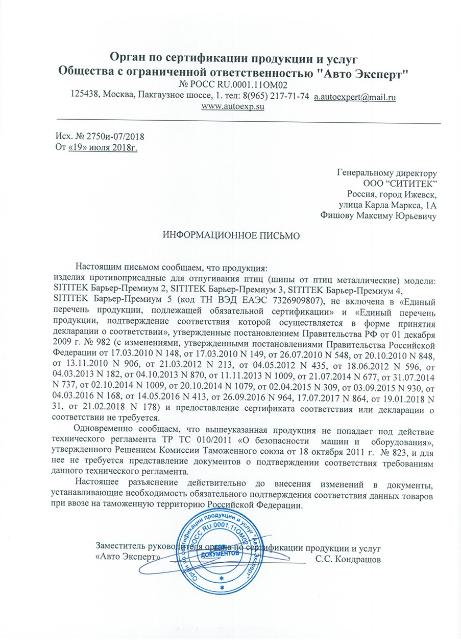stamp: (175, 509, 265, 595)
